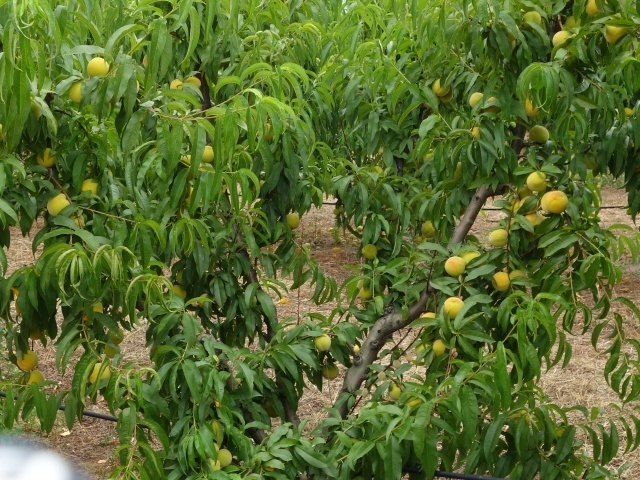peach: (537, 187, 571, 218), (42, 188, 73, 220), (438, 294, 468, 324), (597, 16, 629, 44), (63, 80, 92, 107), (85, 54, 113, 81), (13, 347, 41, 374), (85, 359, 112, 387), (442, 254, 470, 281), (548, 25, 575, 53), (77, 175, 104, 202), (522, 165, 548, 193), (489, 269, 514, 297), (21, 362, 49, 386), (487, 226, 512, 252), (35, 146, 60, 171), (526, 122, 550, 146), (521, 8, 545, 31), (309, 330, 331, 354), (429, 76, 453, 98), (281, 210, 304, 231), (466, 89, 487, 112), (320, 360, 341, 382), (216, 447, 236, 470), (358, 242, 381, 262), (180, 72, 204, 91), (165, 75, 186, 96), (198, 145, 220, 165), (428, 337, 448, 358), (106, 326, 126, 347), (355, 283, 376, 303), (418, 218, 437, 240), (203, 453, 222, 474), (384, 385, 406, 403), (99, 341, 121, 359), (169, 281, 188, 301), (172, 268, 190, 287)
